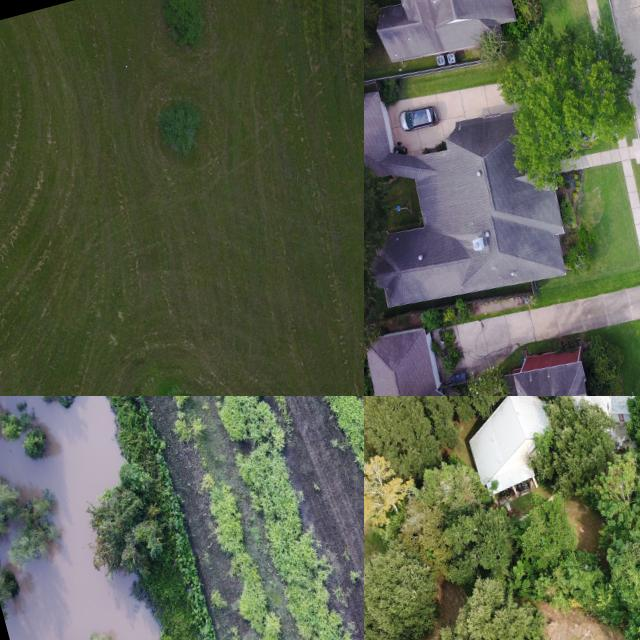fire: (0, 396, 159, 640)
